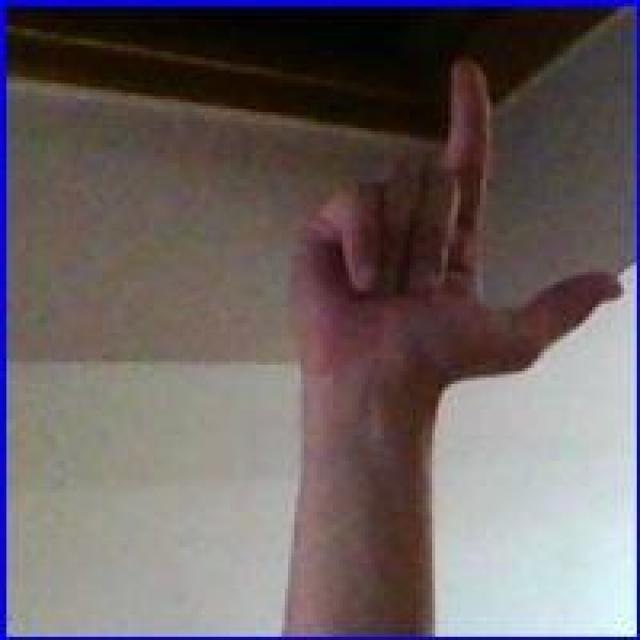L: (286, 52, 629, 390)
